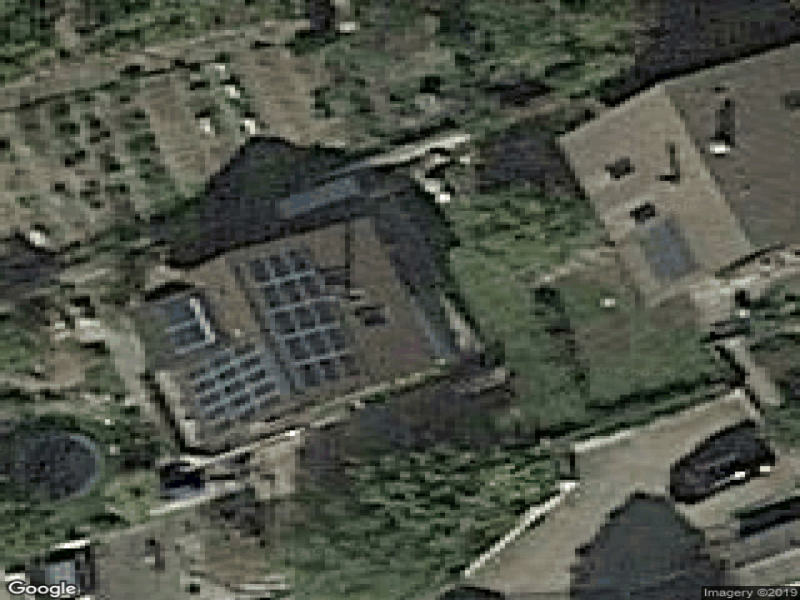pv: (184, 250, 362, 427)
